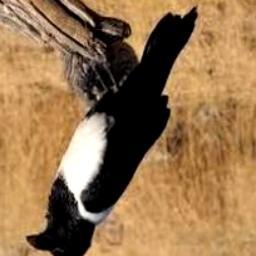Crow: (25, 5, 198, 256)
